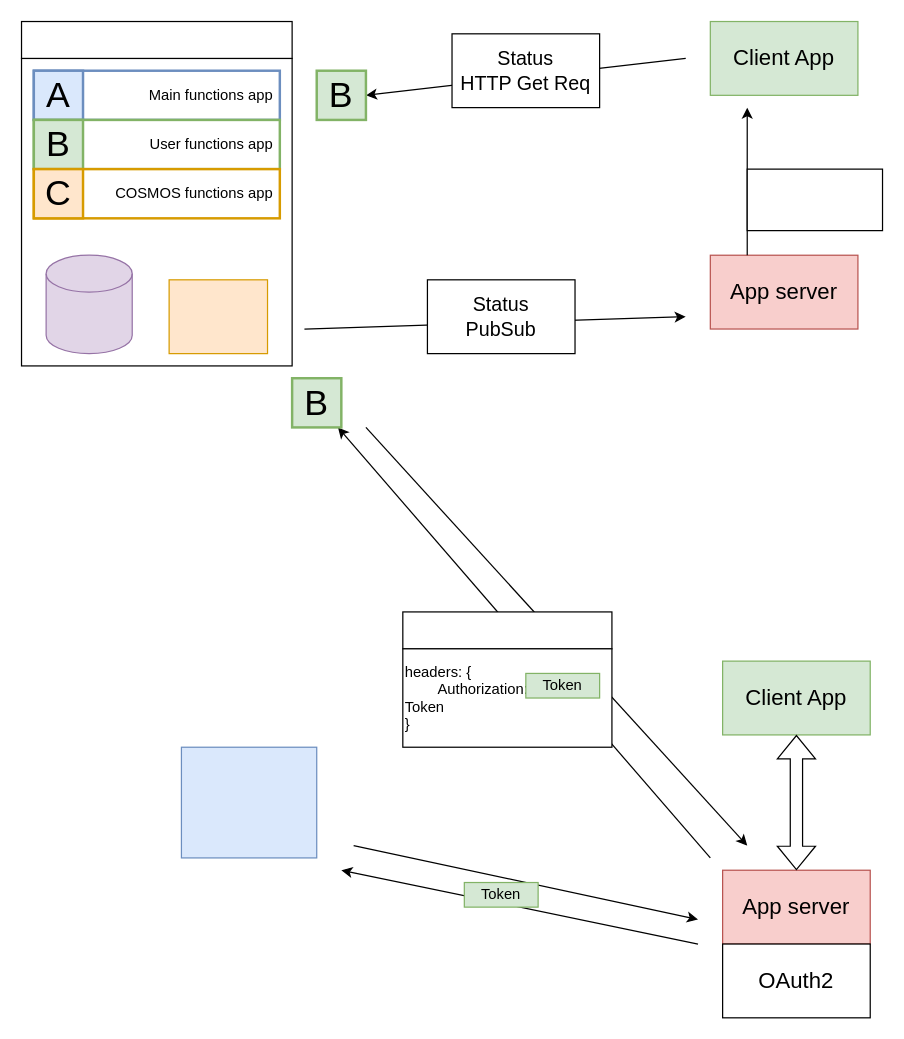
The diagram is 904 pixels wide and 1039 high, and some of its shapes have lost their labels. The shapes that lost their labels are listed below. From the top down, each one's centre as x and y in pixels, then its label:
At point 156,39: "Azure".
At point 814,199: "Status by Station Id".
At point 88,304: "Cosmos DB".
At point 218,316: "PubSub".
At point 507,630: "HTTP req".
At point 248,802: "Azure Identity provider".
